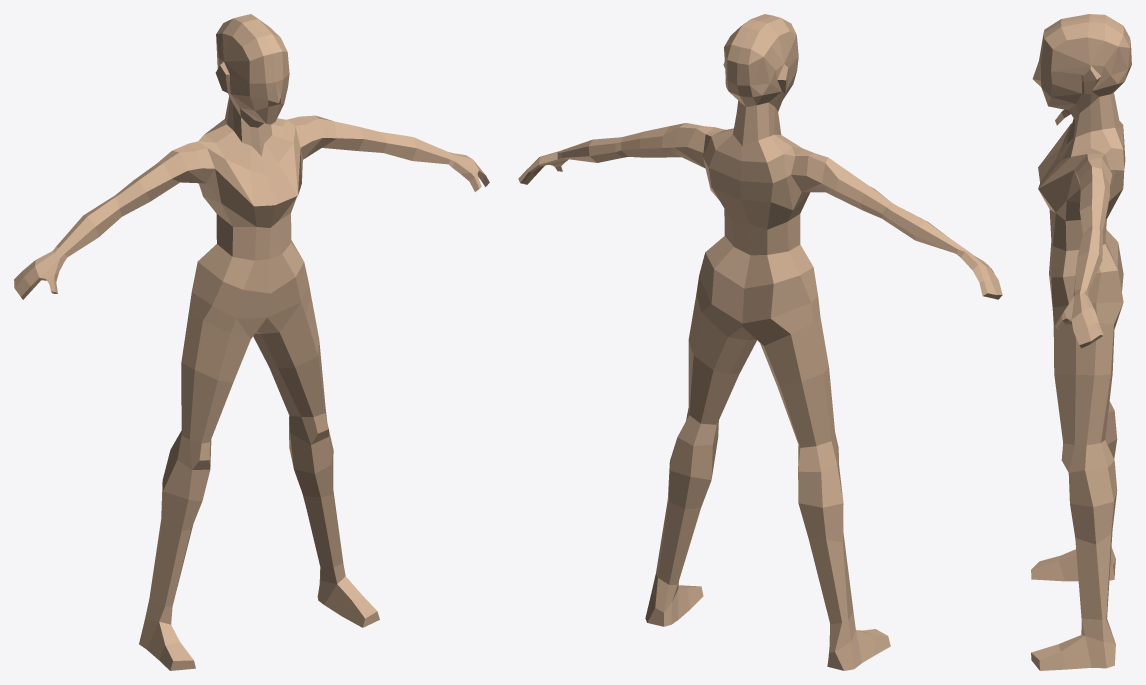
File: MaleBody.fbx
3 views of the same model, side by side, from view 1: azimuth 30°, elevation 25°; view 2: azimuth 150°, elevation 25°; view 3: azimuth 270°, elevation 25° (orthographic). The views are drawn at different scales.
Parts seen in each view (by area): view 1: bodyM; view 2: bodyM; view 3: bodyM.
Part boxes in pixels (x1,y1,x2,y2): bodyM: (14, 14, 489, 670); bodyM: (518, 14, 1002, 670); bodyM: (1031, 14, 1131, 670).
Size of the model in its own units: 87.33 by 108 by 16.36.
